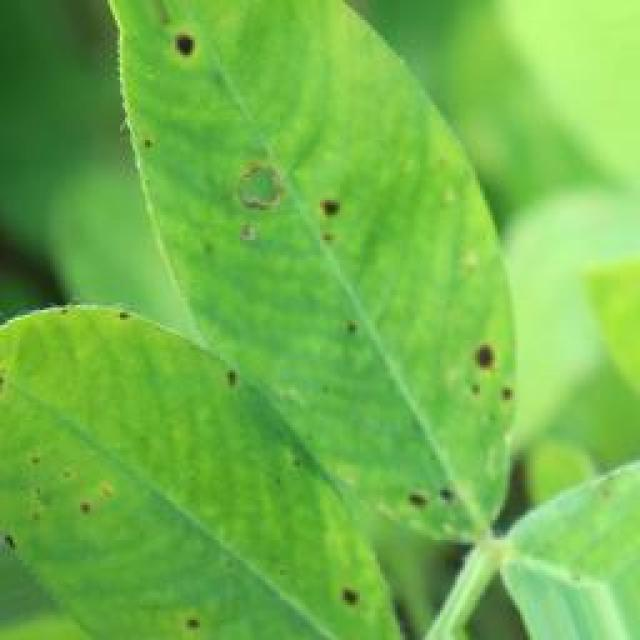Sigatoka: (0, 442, 125, 561), (430, 310, 528, 430), (163, 4, 248, 108), (101, 298, 195, 378), (293, 162, 353, 272), (316, 300, 382, 376), (213, 353, 284, 422), (399, 452, 451, 518), (333, 568, 382, 633), (181, 587, 229, 635)
